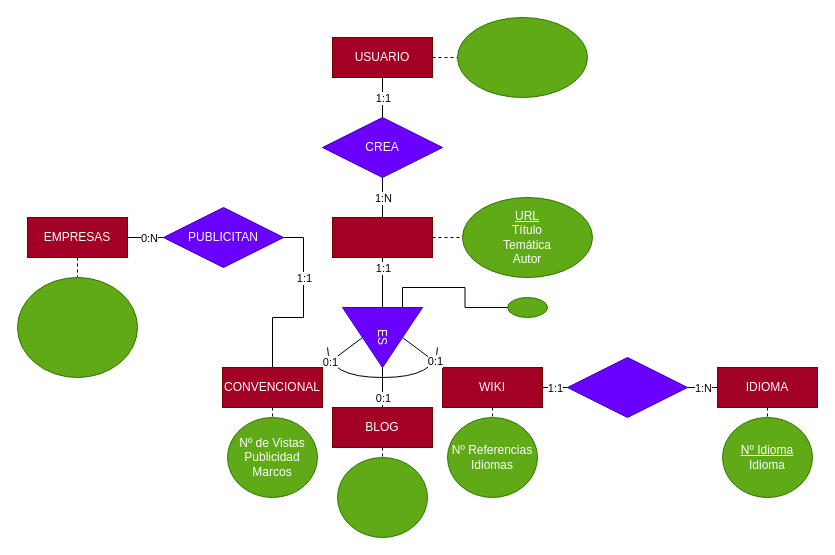
The diagram is 835 pixels wide and 555 high, and some of its shapes have lost their labels. Each missing label, with the centre of its shape:
NIF Nombre Fecha_de_Nacimiento Titulación: the point at 522,57
Nombre Actividad Fecha_inicio_contrato Fecha_fin_contrato Dinero_Contrato: the point at 77,327
Nº Entradas Nº Etiquetas: the point at 382,497
TIENE: the point at 627,387
tipo: the point at 527,307
WEB: the point at 382,237
